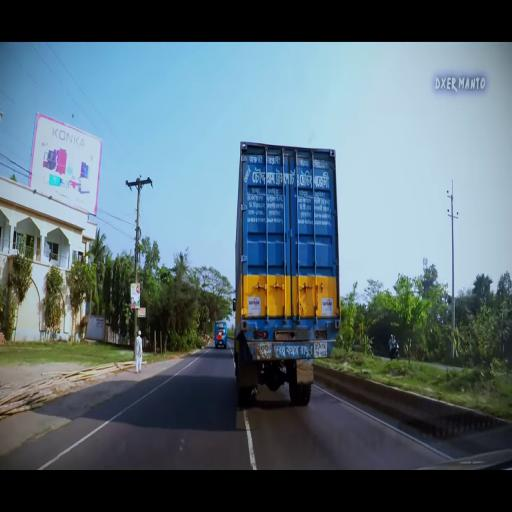bus: (214, 319, 229, 353)
motorbike: (387, 332, 402, 362)
truck: (232, 139, 343, 411)
